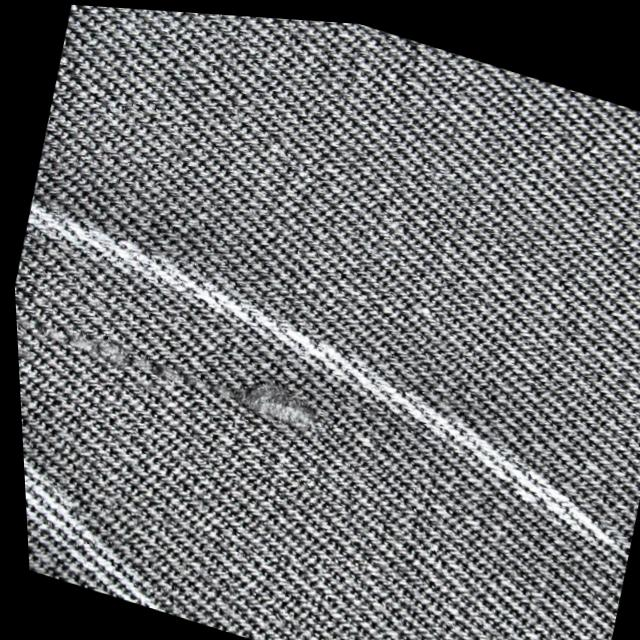Hole: (12, 293, 358, 460)
